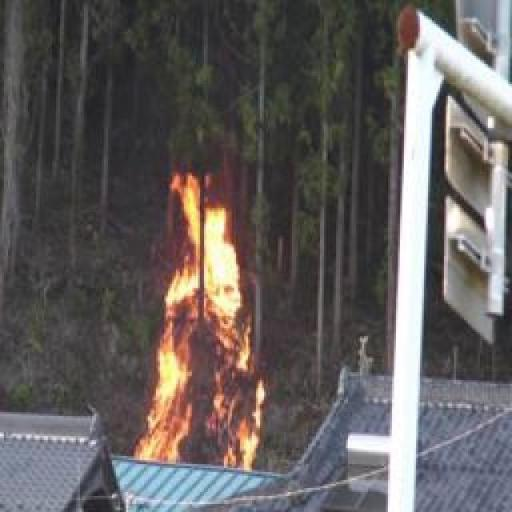smoke: (142, 181, 263, 468)
